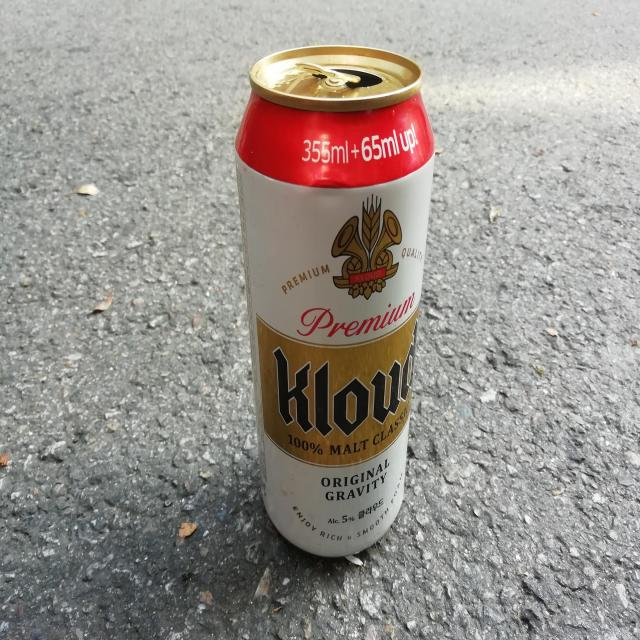can: (236, 45, 435, 557)
